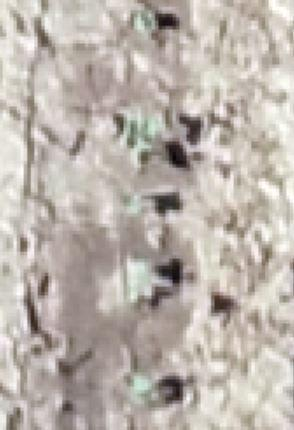cotton: (128, 118, 153, 145), (131, 259, 151, 283), (136, 13, 157, 33), (138, 377, 153, 403), (136, 148, 152, 170), (125, 193, 139, 213)
